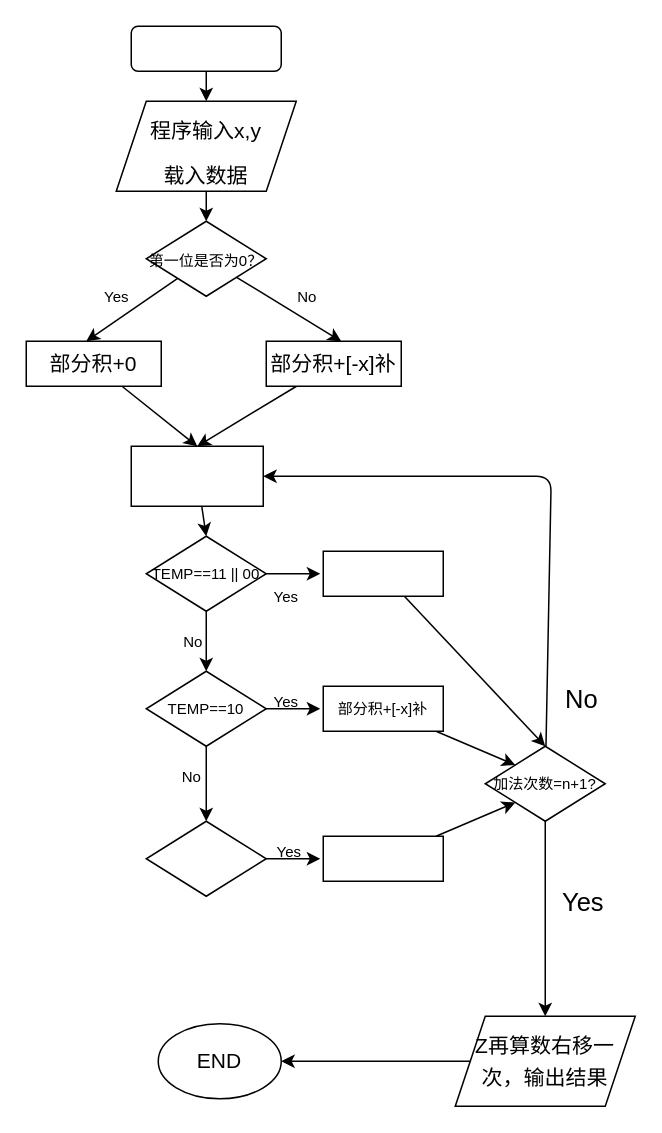
Image size: 662x1133. Some labels were removed from this diagram. Here are the shapes that lost their labels. From the top down, the centre of each, then its label:
(x=205, y=48): start
(x=196, y=475): 记录TEMP=Z[1:0] Z算数右移
(x=382, y=573): 部分积不变
(x=205, y=858): TEMP==01
(x=382, y=858): 部分积+[x]补
